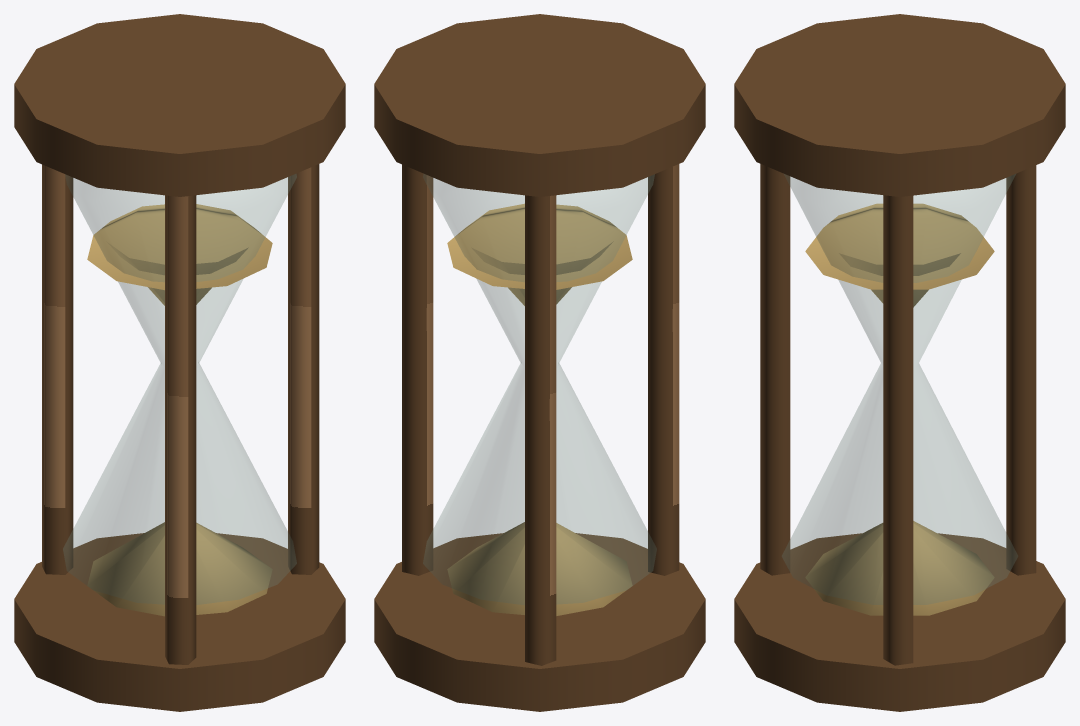
The model's file is hourglass.glb.
The picture shows the model from 3 angles, left to right: view 1: azimuth 30°, elevation 25°; view 2: azimuth 150°, elevation 25°; view 3: azimuth 270°, elevation 25°; orthographic projection.
Visible parts, largest first — view 1: dyn_wood_variant, hourglass; view 2: dyn_wood_variant, hourglass; view 3: dyn_wood_variant, hourglass.
Boxes of the visible parts, x1=… form: dyn_wood_variant: x1=14, y1=14, x2=345, y2=711; hourglass: x1=63, y1=174, x2=296, y2=616; dyn_wood_variant: x1=374, y1=14, x2=705, y2=711; hourglass: x1=423, y1=174, x2=656, y2=615; dyn_wood_variant: x1=734, y1=14, x2=1065, y2=711; hourglass: x1=782, y1=174, x2=1017, y2=615.
Size of the model in its own units: 0.1401 by 0.26 by 0.1401.
3 materials, 1 textured.
